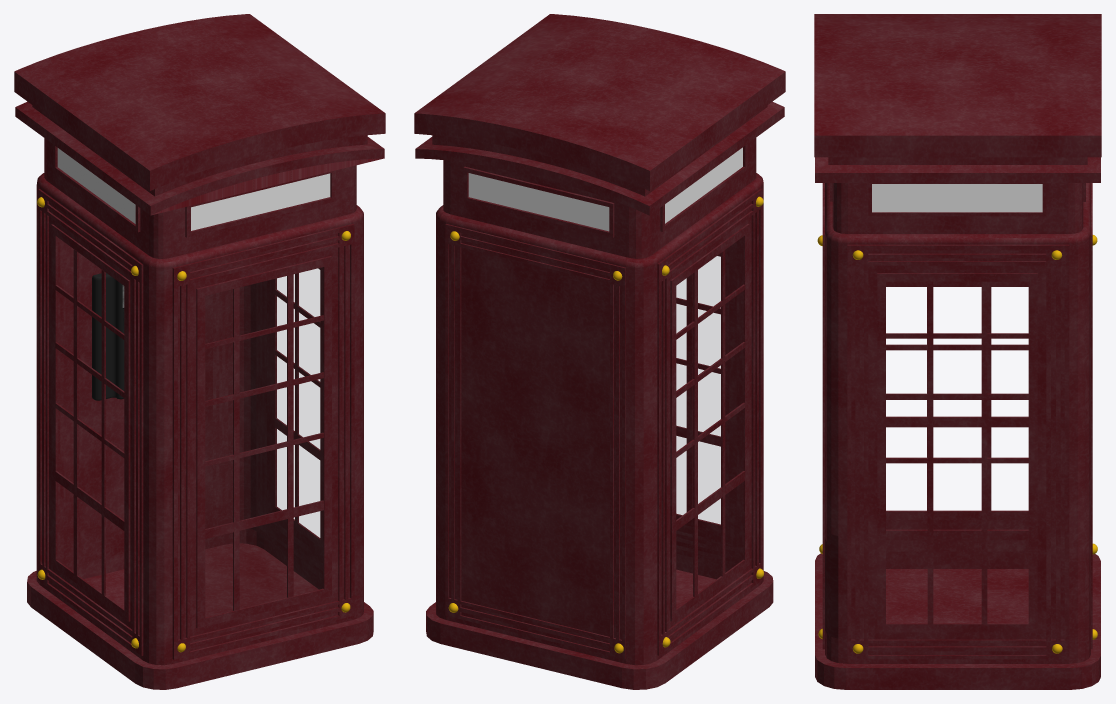
File: cabina_telefonica (1).glb
3 views of the same model, side by side, from view 1: azimuth 30°, elevation 25°; view 2: azimuth 150°, elevation 25°; view 3: azimuth 270°, elevation 25° (orthographic). The views are drawn at different scales.
Visible parts, largest first — view 1: Plano_0, Plano.001_2, Plano.012_15, Plano.017_20, Plano.006_3, Esfera.002_1; view 2: Plano_0, Plano.001_2, Plano.012_15, Plano.017_20, Esfera.002_1; view 3: Plano_0, Plano.001_2, Plano.017_20, Esfera.002_1.
Part boxes in pixels (x1=…): Plano_0: x1=27, y1=138, x2=373, y2=689; Plano.001_2: x1=14, y1=14, x2=385, y2=215; Plano.012_15: x1=206, y1=268, x2=322, y2=616; Plano.017_20: x1=57, y1=148, x2=330, y2=230; Plano.006_3: x1=92, y1=273, x2=124, y2=400; Esfera.002_1: x1=37, y1=197, x2=350, y2=652; Plano_0: x1=426, y1=138, x2=773, y2=689; Plano.001_2: x1=414, y1=14, x2=785, y2=215; Plano.012_15: x1=677, y1=256, x2=720, y2=524; Plano.017_20: x1=468, y1=147, x2=742, y2=231; Esfera.002_1: x1=448, y1=196, x2=763, y2=653; Plano_0: x1=815, y1=183, x2=1100, y2=689; Plano.001_2: x1=814, y1=14, x2=1101, y2=182; Plano.017_20: x1=872, y1=184, x2=1042, y2=212; Esfera.002_1: x1=817, y1=235, x2=1097, y2=653.
Size of the model in its own units: 2.01 by 4.36 by 2.01.
19 materials, 10 textured.
